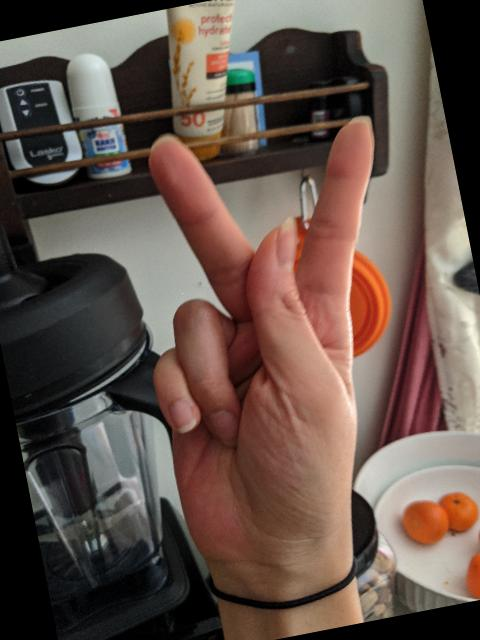K: (98, 88, 460, 586)
